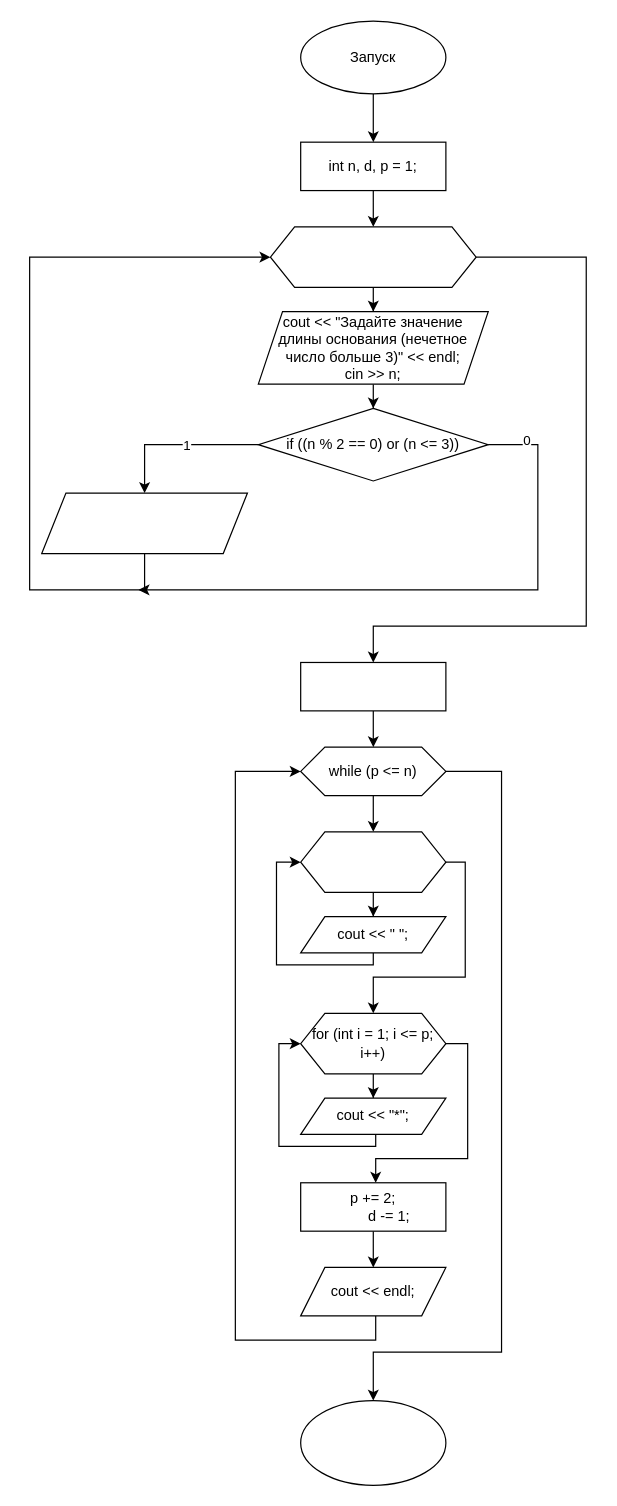
Some shapes in this 617 by 1506 pixel diagram are drawn without their labels. The shapes that lost their labels are listed below. From the top down, each one's centre as x and y in pixels, then its label:
[372,256]: while ((n % 2 == 0) or (n <= 3))
[144,523]: cout << "Данное число не удовлетворяет условиям" << endl;
[372,686]: d = (n - 1) / 2;
[372,861]: for (int i = 1; i <= d; i++)
[372,1442]: Конец
